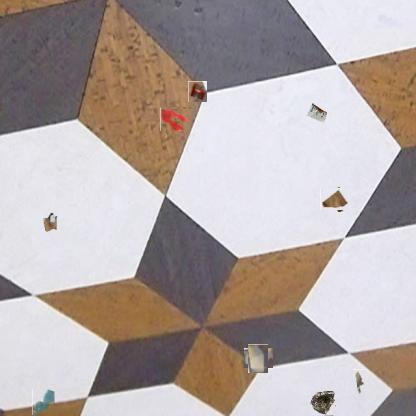dirty: (322, 187, 348, 212), (246, 346, 271, 371), (311, 391, 335, 415), (305, 102, 329, 124), (39, 210, 59, 234), (188, 81, 207, 102), (352, 369, 366, 394)
liquid: (160, 107, 191, 132), (32, 390, 55, 416)
